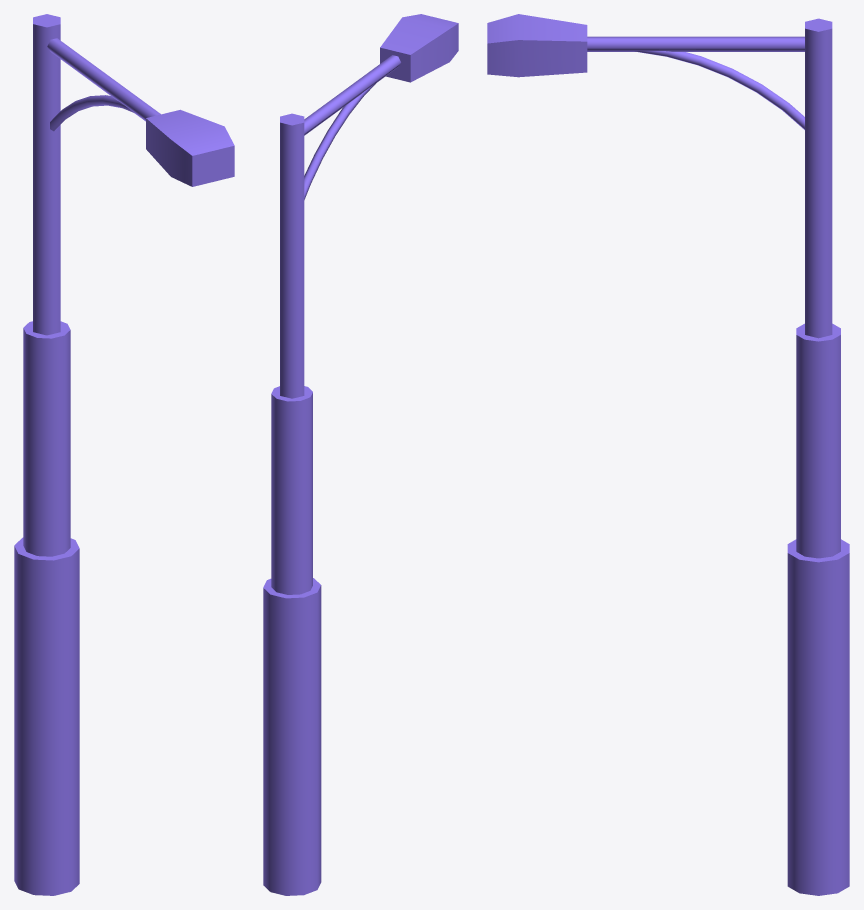
File: ADML_Lampost.fbx
3 views of the same model, side by side, from view 1: azimuth 30°, elevation 25°; view 2: azimuth 150°, elevation 25°; view 3: azimuth 270°, elevation 25° (orthographic). The views are drawn at different scales.
Parts seen in each view (by area): view 1: ADML_Lampost; view 2: ADML_Lampost; view 3: ADML_Lampost.
Boxes of the visible parts, box(x1,y1,x2,y2) form: ADML_Lampost: box(14, 14, 234, 895); ADML_Lampost: box(263, 14, 458, 895); ADML_Lampost: box(487, 14, 849, 895).
Size of the model in its own units: 14.74 by 81.7 by 213.
